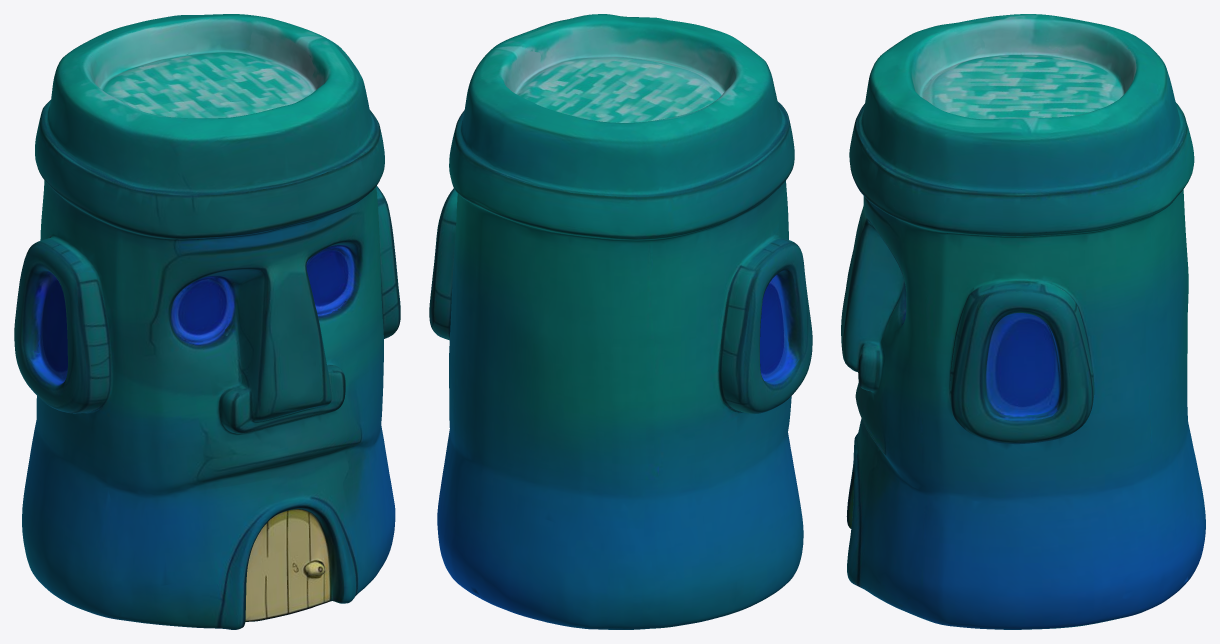
The model's file is squidward-house-web.glb.
3 views of the same model, side by side, from view 1: azimuth 30°, elevation 25°; view 2: azimuth 150°, elevation 25°; view 3: azimuth 270°, elevation 25° (orthographic).
Visible parts, largest first — view 1: textured; view 2: textured; view 3: textured.
Part boxes in pixels (bbox=[...]): textured: bbox=[14, 14, 400, 629]; textured: bbox=[429, 14, 812, 629]; textured: bbox=[841, 14, 1205, 629].
Bounding box in the file's own units: 1.42 × 2 × 1.35.
Materials: 1 (1 with a texture image).
